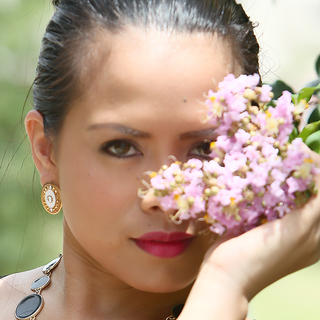eye: (95, 134, 145, 162)
